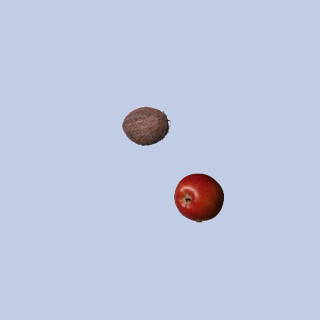Apple Braeburn: (173, 172, 223, 222)
Cocos: (120, 100, 170, 150)
